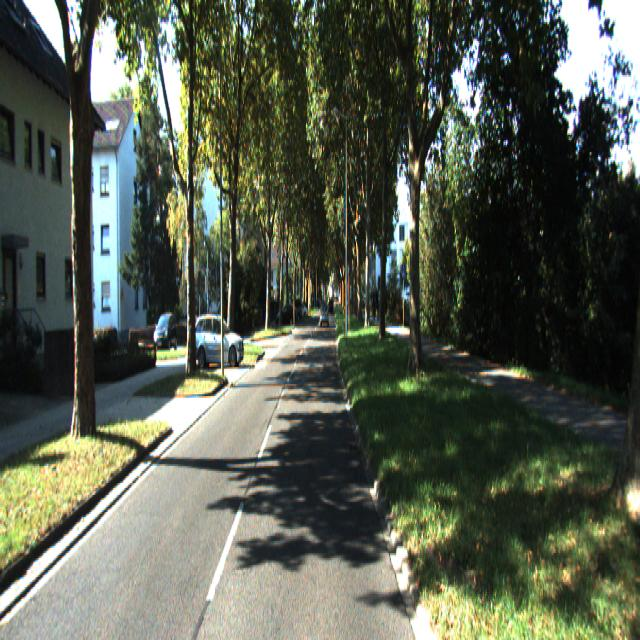Car: (190, 314, 246, 368)
DontCare: (275, 288, 337, 340), (149, 304, 179, 357)
